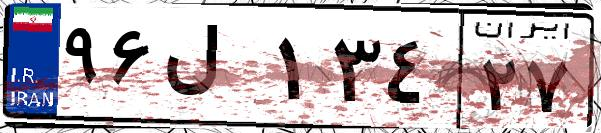1: (270, 28, 330, 110)
2: (475, 38, 525, 113)
3: (330, 28, 385, 110)
4: (385, 28, 445, 110)
6: (110, 28, 158, 98)
7: (525, 38, 570, 115)
9: (57, 26, 110, 100)
ل: (158, 20, 270, 120)
